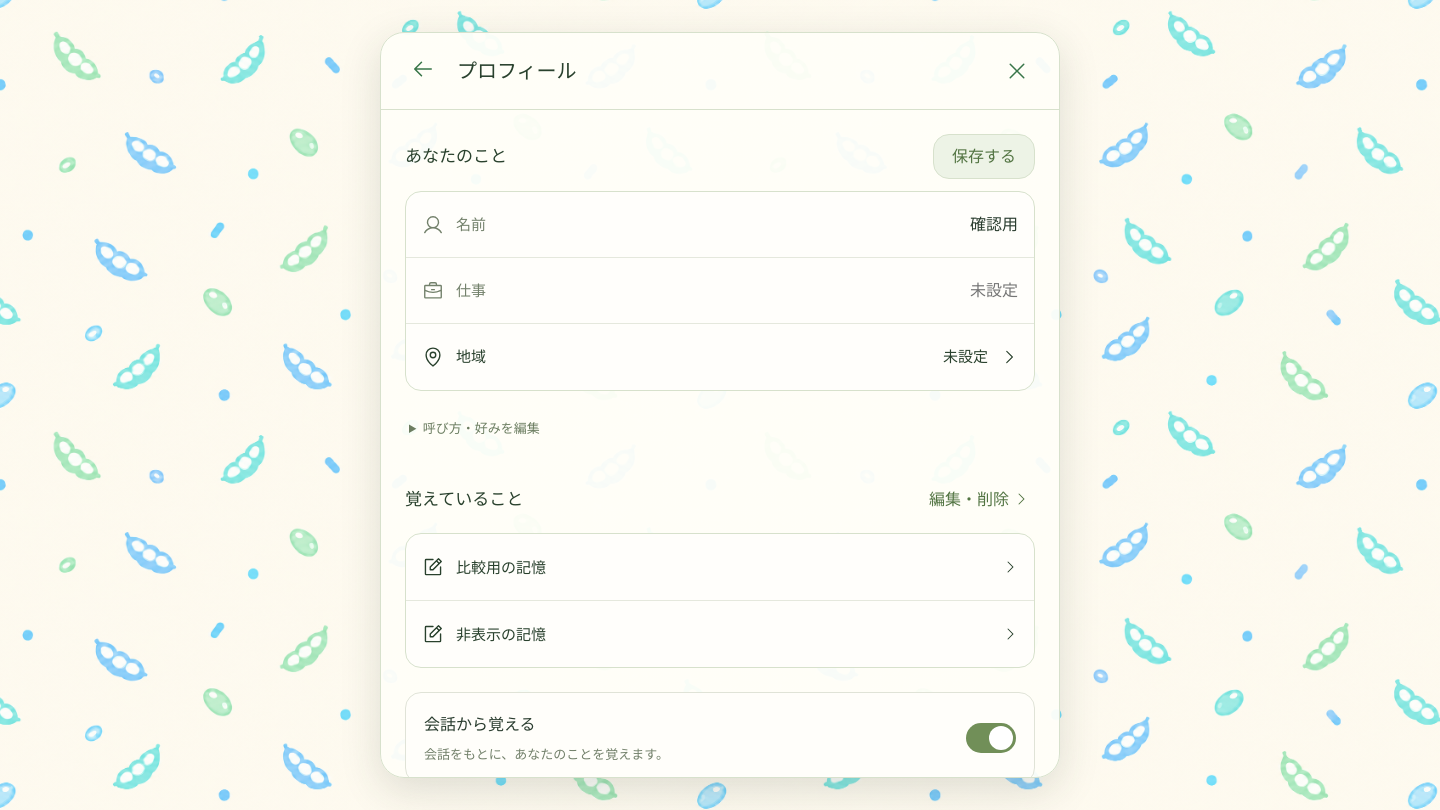
Test case: saves explicit details without overwriting other settings or automatically saving on input
Type "架空の職業" into the field named "職業" at (758, 291), box 498,270 -> 1018,312
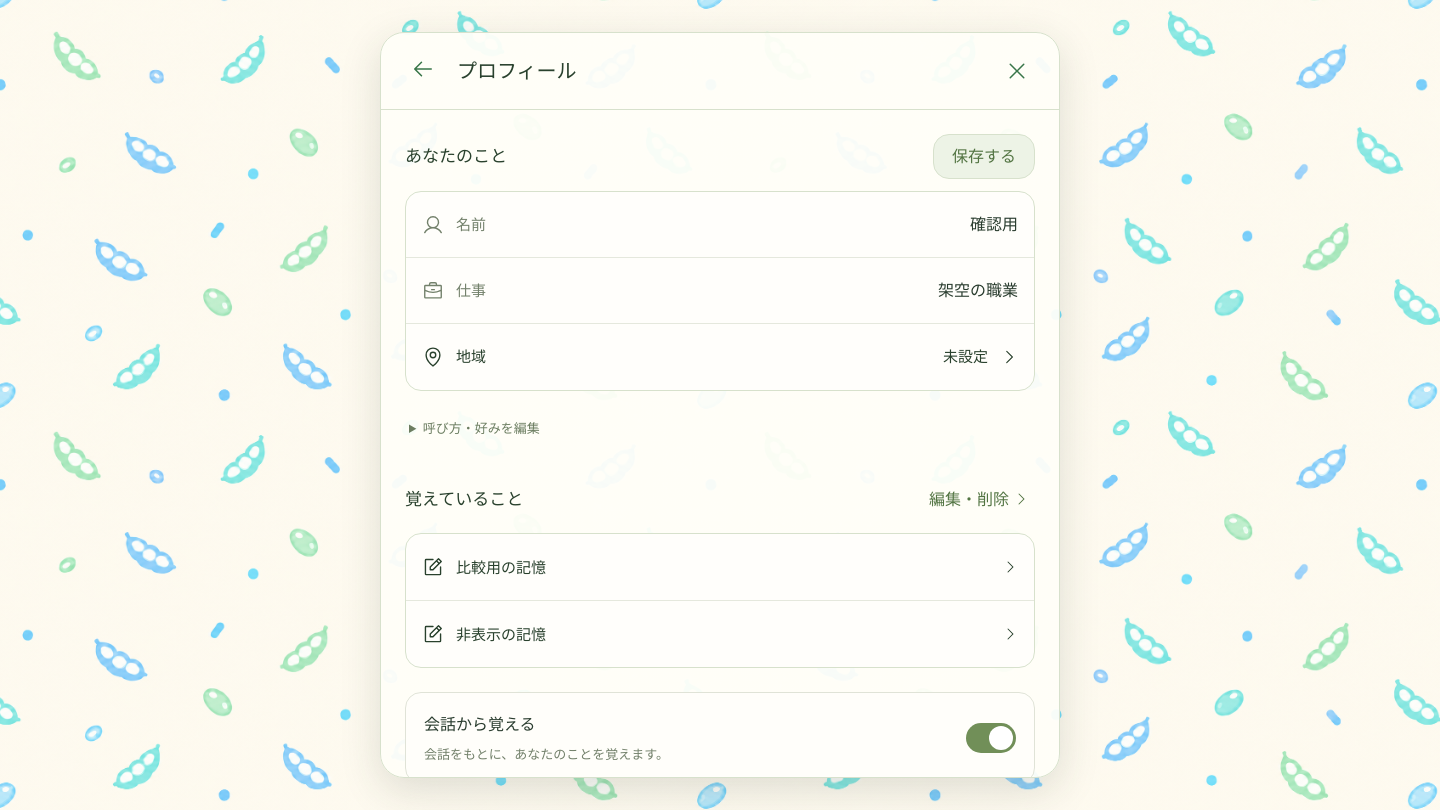
Click the button "保存する" at (984, 157), box 933,134 -> 1035,179
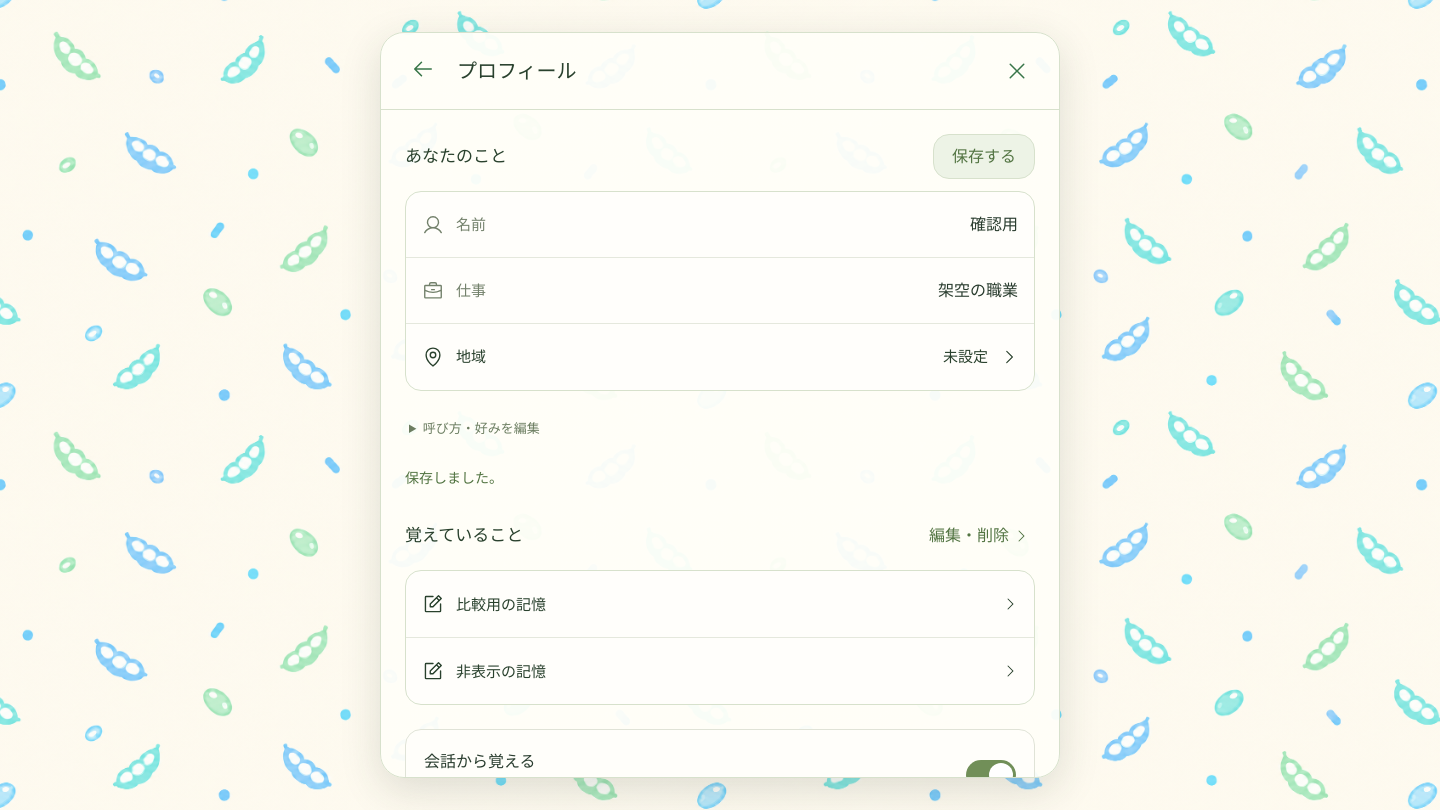
Result: the text "保存しました。" is shown at 405,468 -> 503,487
